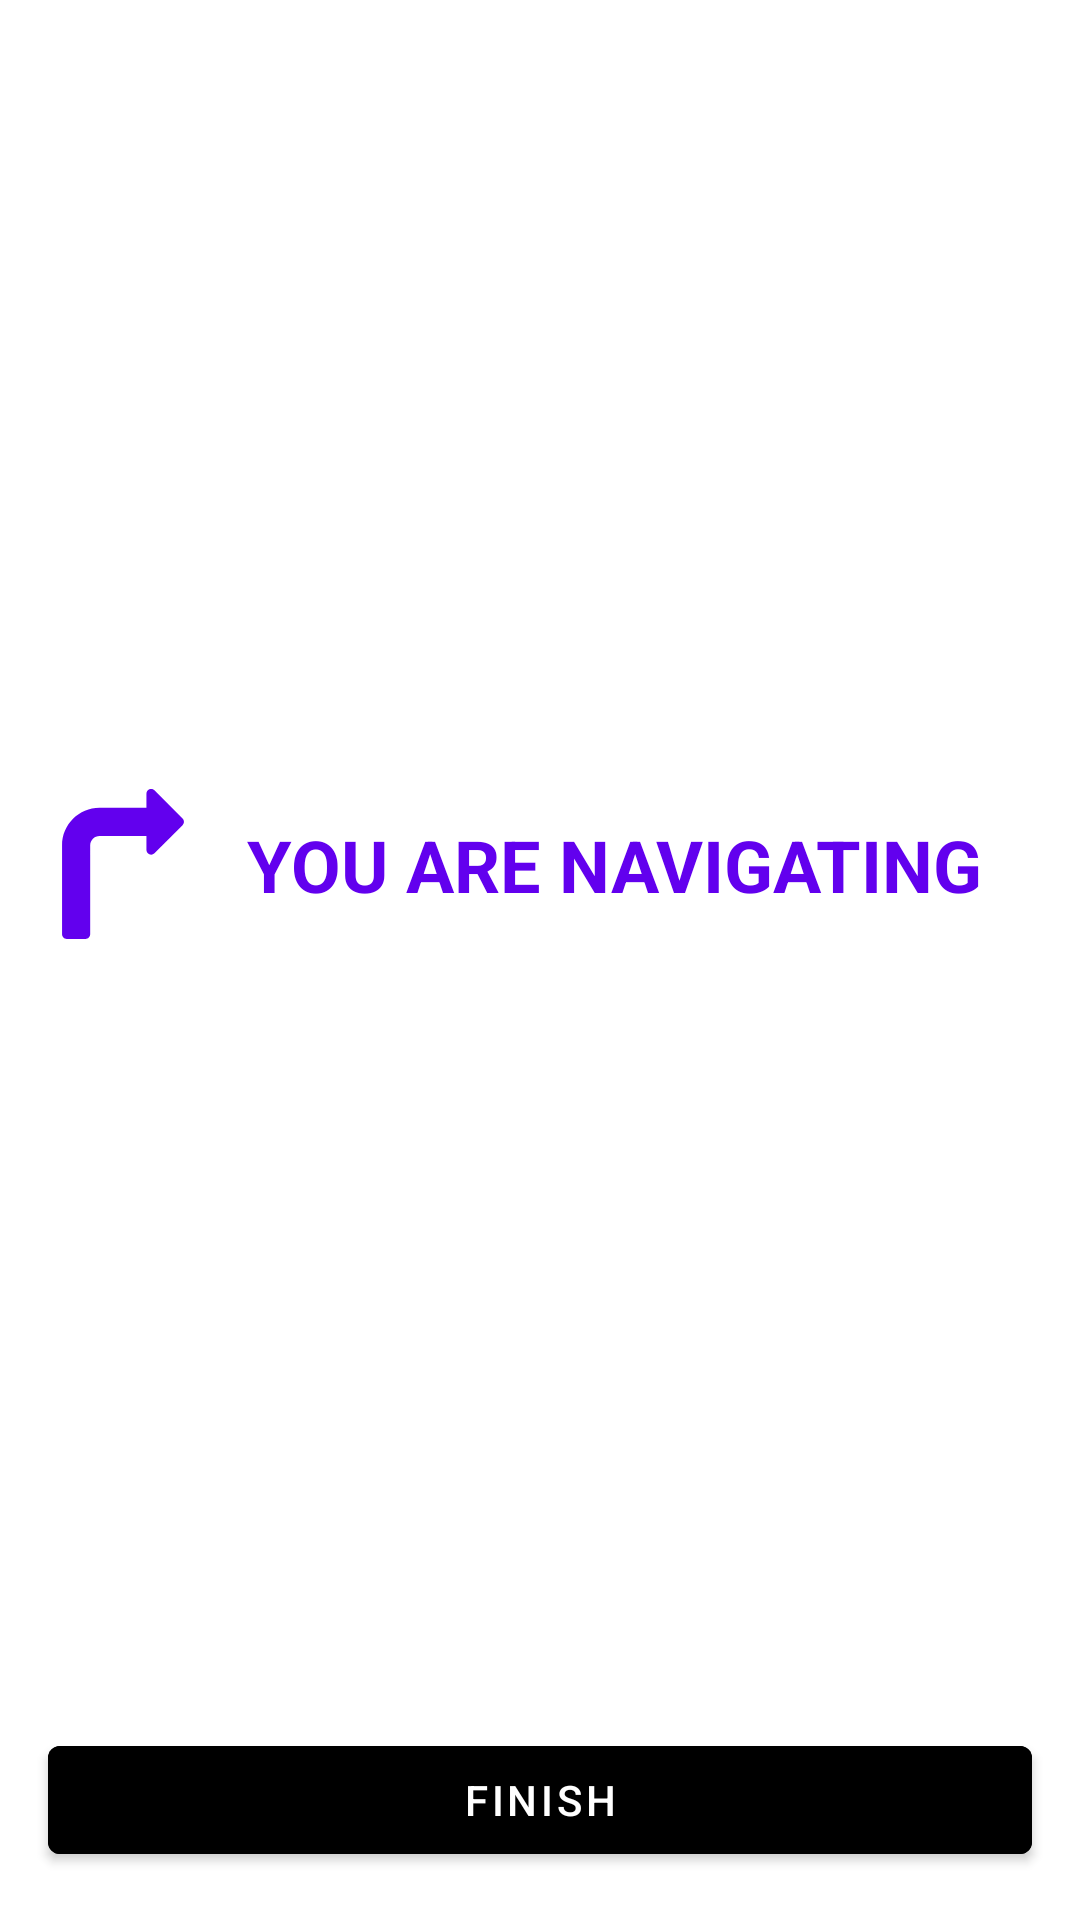

Icons on this 1080 x 1920 Android screen, each with its box as (x1, y1, x2, y2):
turn right: (62, 789, 184, 939)
